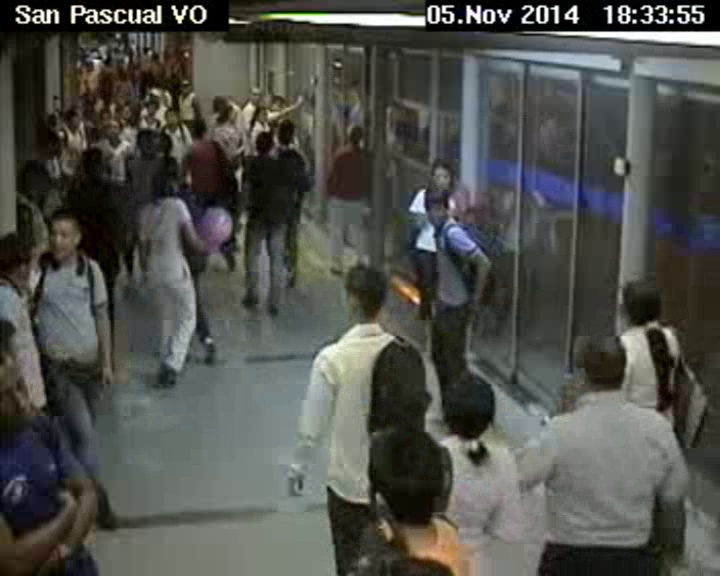person: (360, 421, 454, 532), (554, 326, 632, 398), (440, 359, 497, 451), (1, 340, 47, 435), (333, 261, 386, 331), (614, 273, 673, 331), (1, 228, 33, 288), (50, 214, 89, 262), (15, 161, 46, 202), (420, 158, 456, 193), (145, 166, 177, 201), (422, 186, 452, 223), (81, 149, 112, 178), (278, 116, 302, 151), (253, 127, 273, 159), (339, 120, 363, 145), (188, 115, 210, 141), (134, 128, 156, 154), (101, 117, 126, 138), (62, 113, 84, 131), (217, 105, 237, 124), (243, 85, 263, 104), (162, 108, 179, 128), (269, 93, 287, 111), (211, 94, 228, 113), (119, 101, 134, 121), (64, 105, 83, 120), (144, 98, 159, 116), (255, 107, 269, 126), (178, 78, 193, 94), (98, 109, 110, 125)
